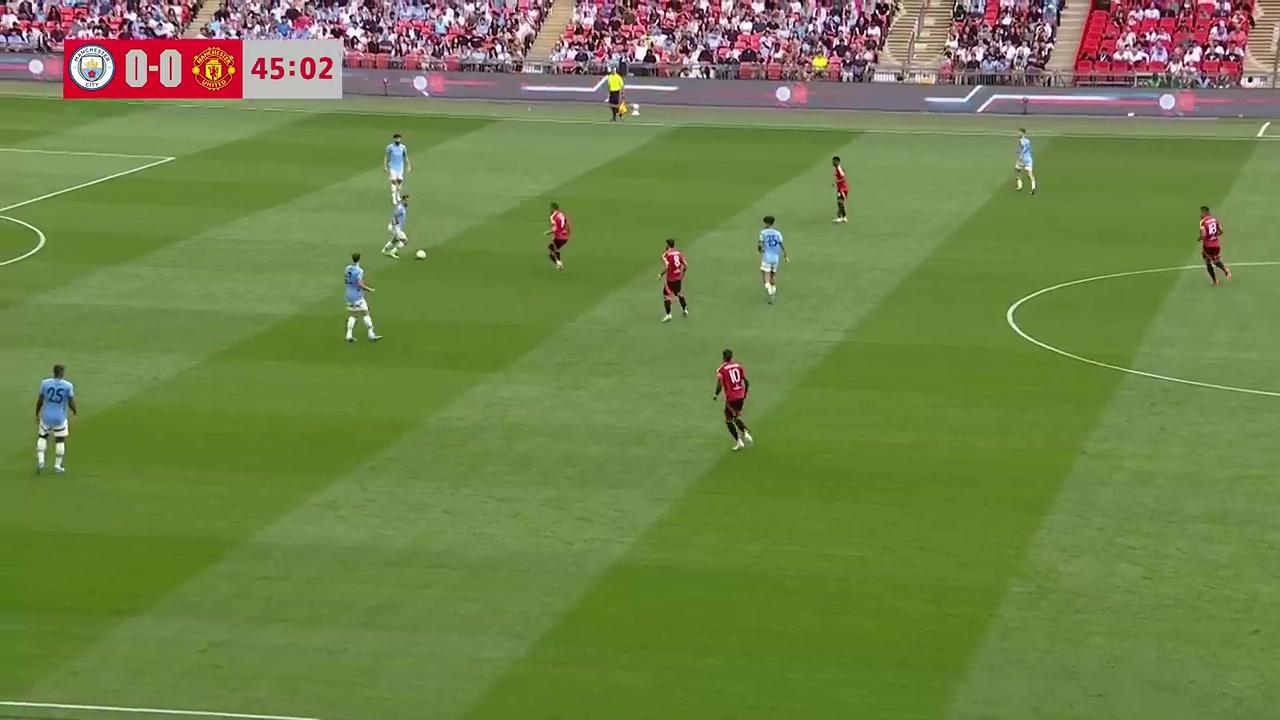ball: (414, 247, 428, 260)
player: (34, 363, 77, 476), (713, 349, 752, 450), (343, 252, 381, 343), (757, 215, 788, 302), (1197, 206, 1231, 285), (658, 238, 688, 321), (381, 192, 413, 258), (383, 132, 411, 200), (544, 202, 571, 270), (1014, 128, 1037, 195), (831, 155, 849, 223)
referee: (607, 68, 626, 124)
